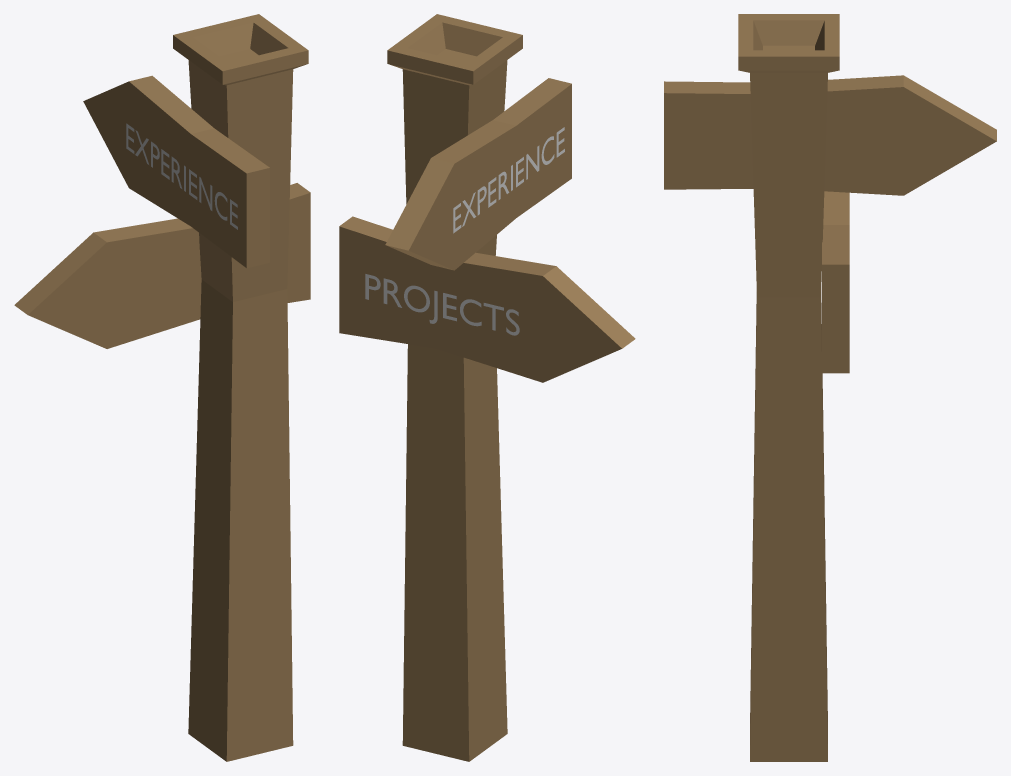
File: sign4.gltf
The picture shows the model from 3 angles, left to right: view 1: azimuth 30°, elevation 25°; view 2: azimuth 150°, elevation 25°; view 3: azimuth 270°, elevation 25°; orthographic projection.
Visible parts, largest first — view 1: pCube4, Text.002; view 2: pCube4, Text.001, Text.002; view 3: pCube4.
Part boxes in pixels (left/top/right/bottom): pCube4: left=14, top=14, right=310, bottom=761; Text.002: left=126, top=123, right=237, bottom=229; pCube4: left=339, top=14, right=635, bottom=761; Text.001: left=365, top=274, right=519, bottom=335; Text.002: left=453, top=127, right=564, bottom=233; pCube4: left=664, top=14, right=996, bottom=761.
Size of the model in its own units: 1.21 by 2.84 by 1.21.
